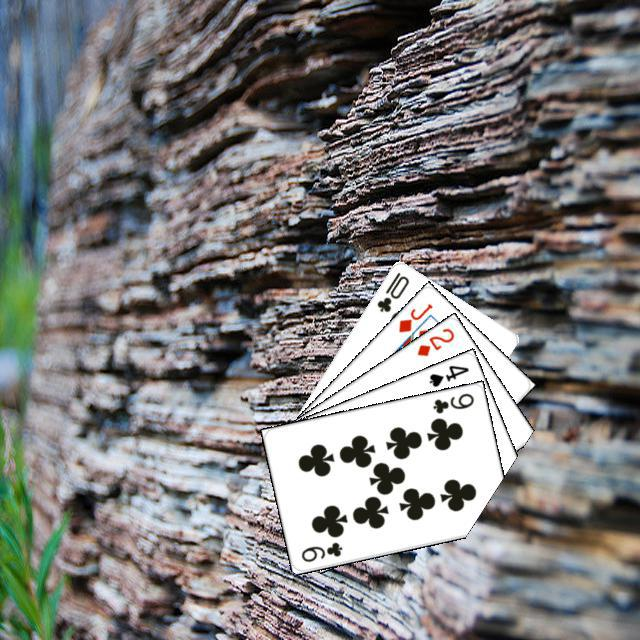10c: (372, 267, 411, 314)
2d: (412, 323, 456, 358)
4s: (424, 360, 471, 389)
9c: (428, 388, 476, 415), (296, 537, 344, 564)
Jd: (393, 299, 435, 335)
